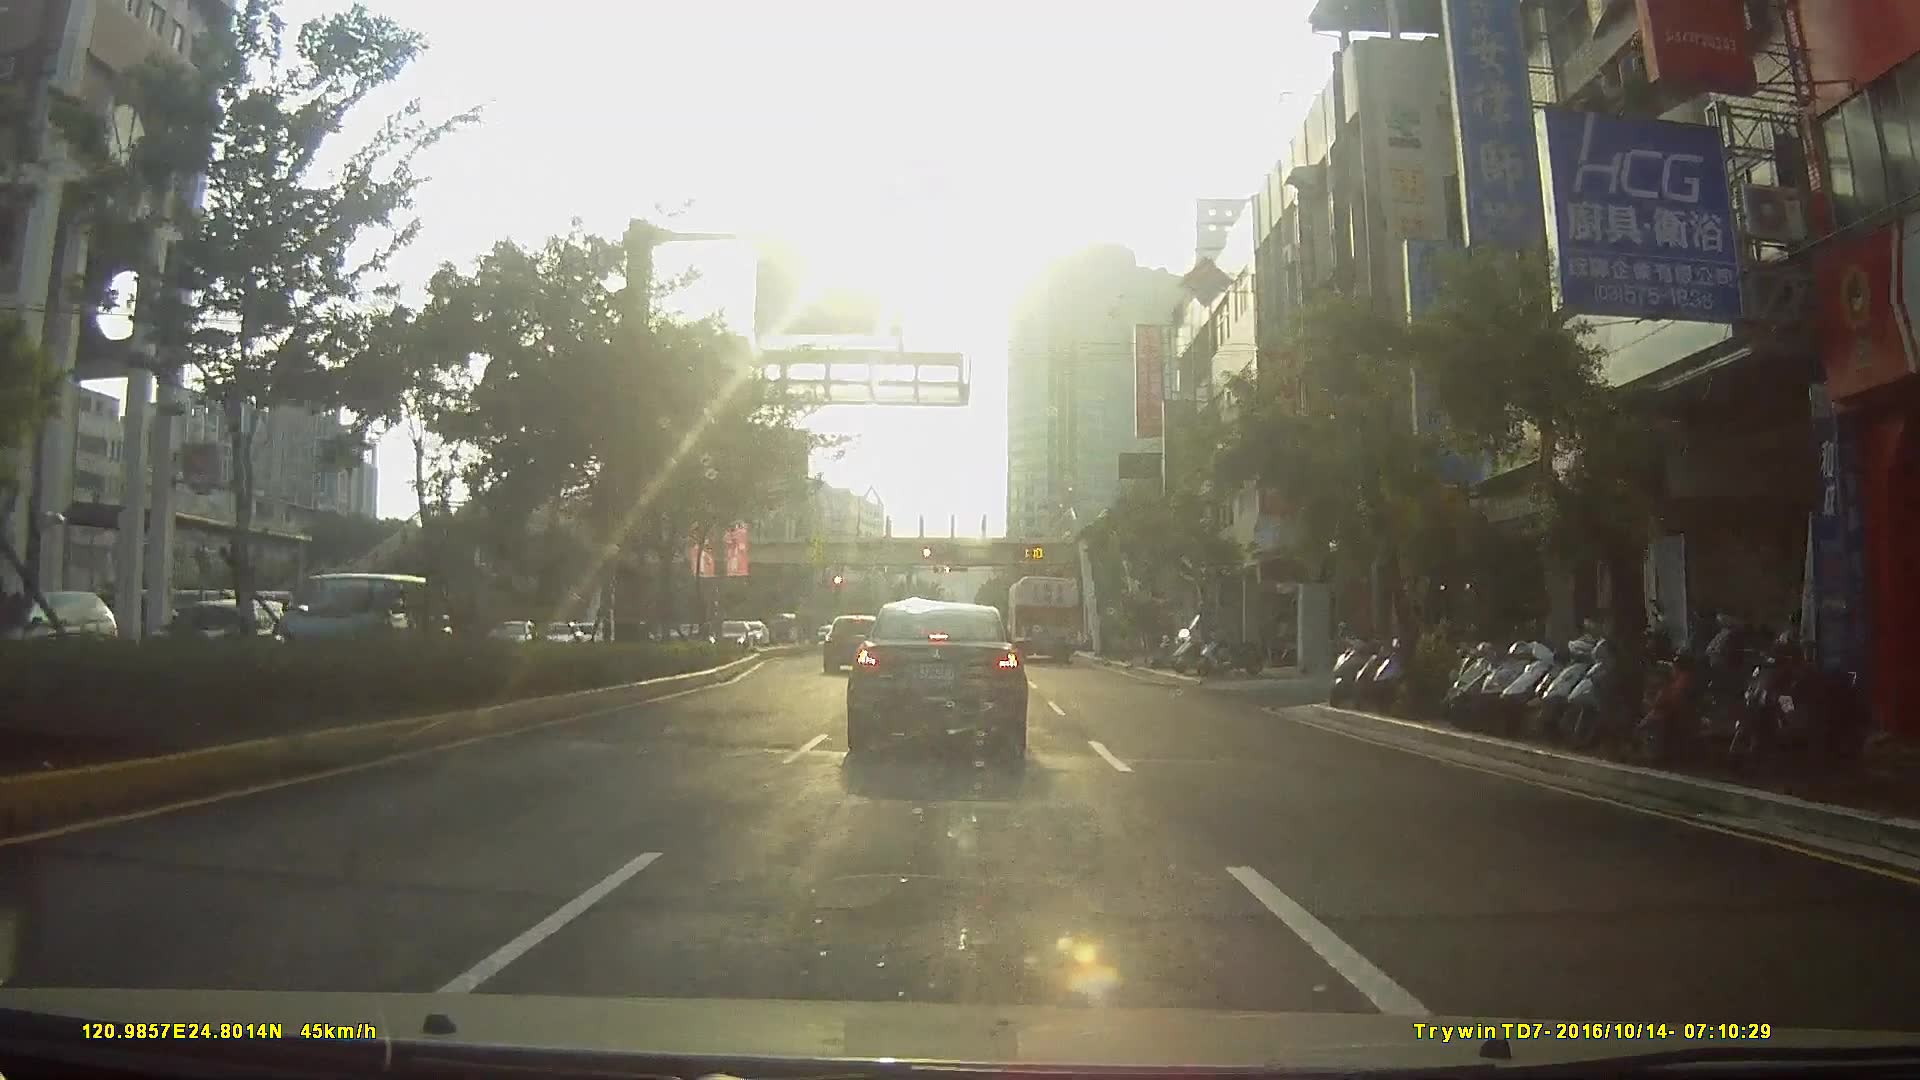vehicle: (844, 593, 1029, 757), (272, 570, 458, 684), (3, 584, 113, 665), (1005, 571, 1081, 662), (819, 612, 885, 676), (705, 618, 753, 655)
